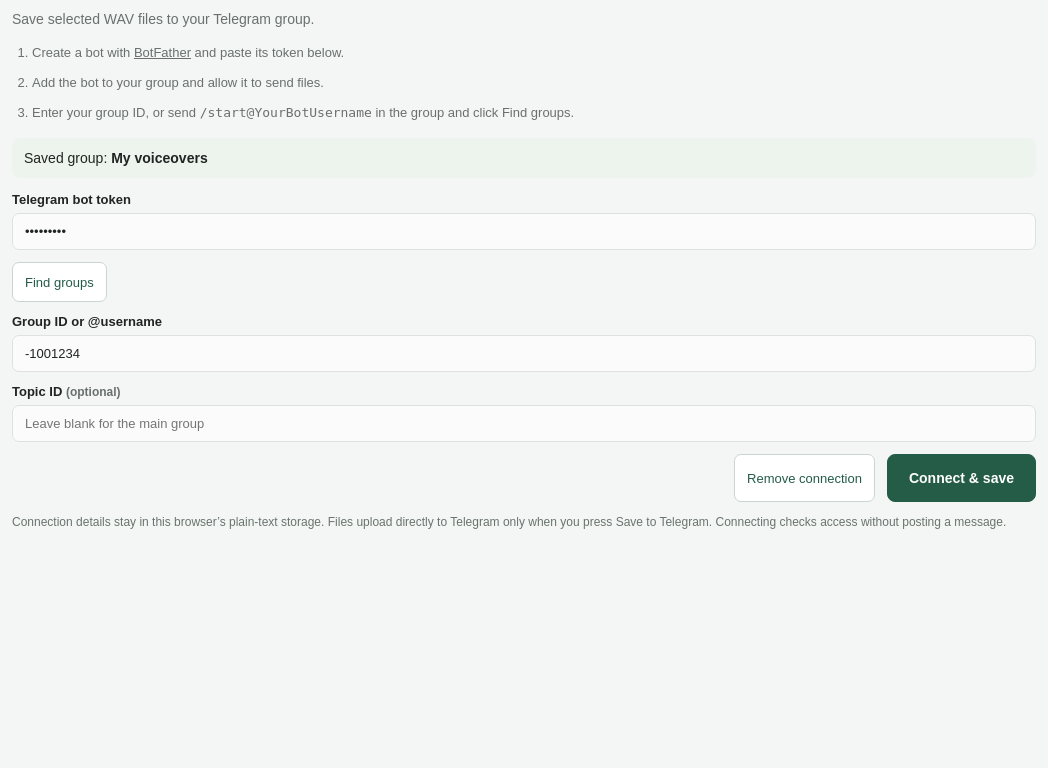
Test: retains the previous connection when saving browser storage fails
The image size is (1048, 768).
Click the button "Connect & save". click: point(962, 478)
box: [887,454,1036,502]
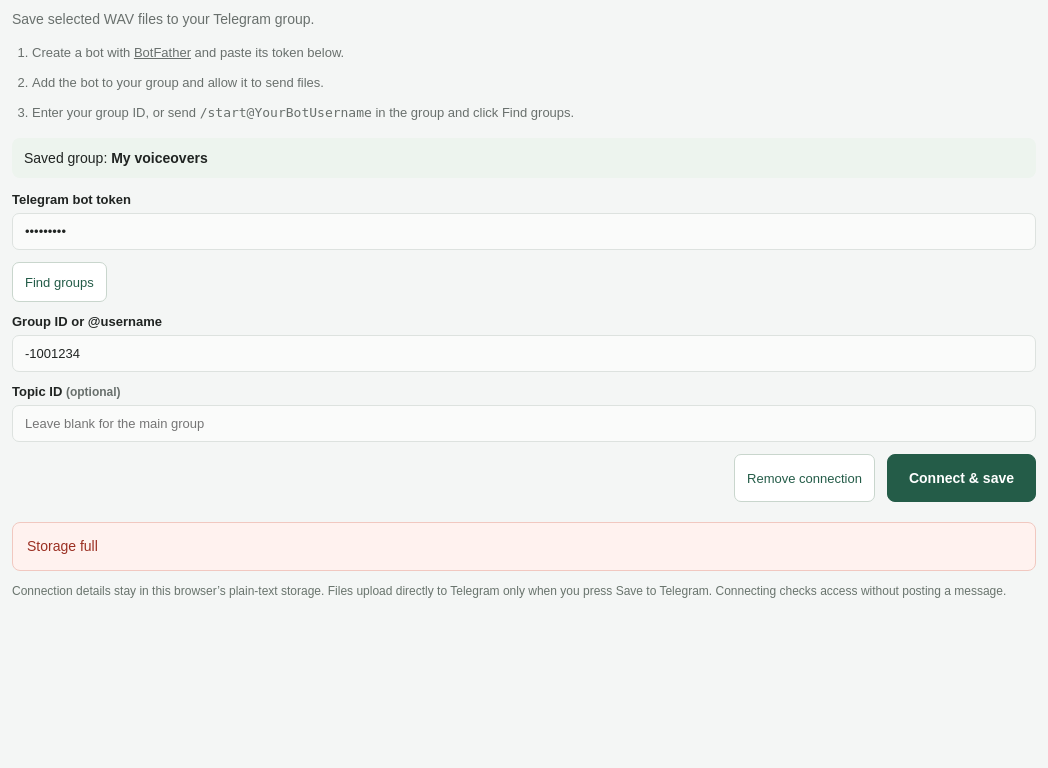
Now the message "Storage full" is shown, box [12,522,1036,571]
